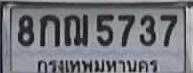3: (139, 14, 155, 45)
5: (96, 12, 113, 45)
7: (117, 14, 134, 46), (160, 14, 176, 46)
8: (17, 14, 33, 45)
A01: (39, 14, 59, 46)
A12: (62, 13, 88, 46)
BKK: (32, 54, 160, 73)
